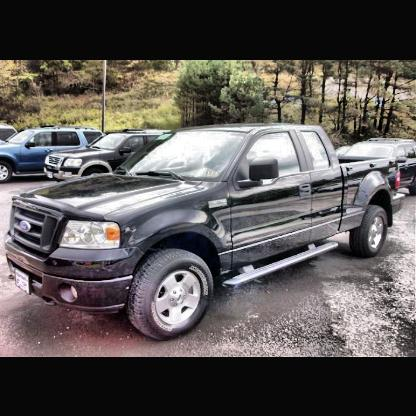Ford F-150 Regular Cab 2007: (7, 123, 393, 342)
